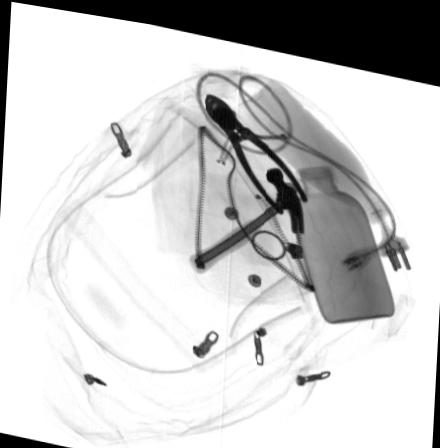Hammer: (187, 158, 304, 269)
Pliers: (204, 87, 306, 205)
